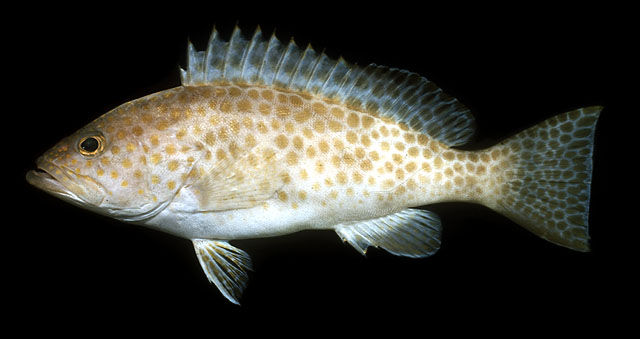fish: (25, 24, 605, 305)
